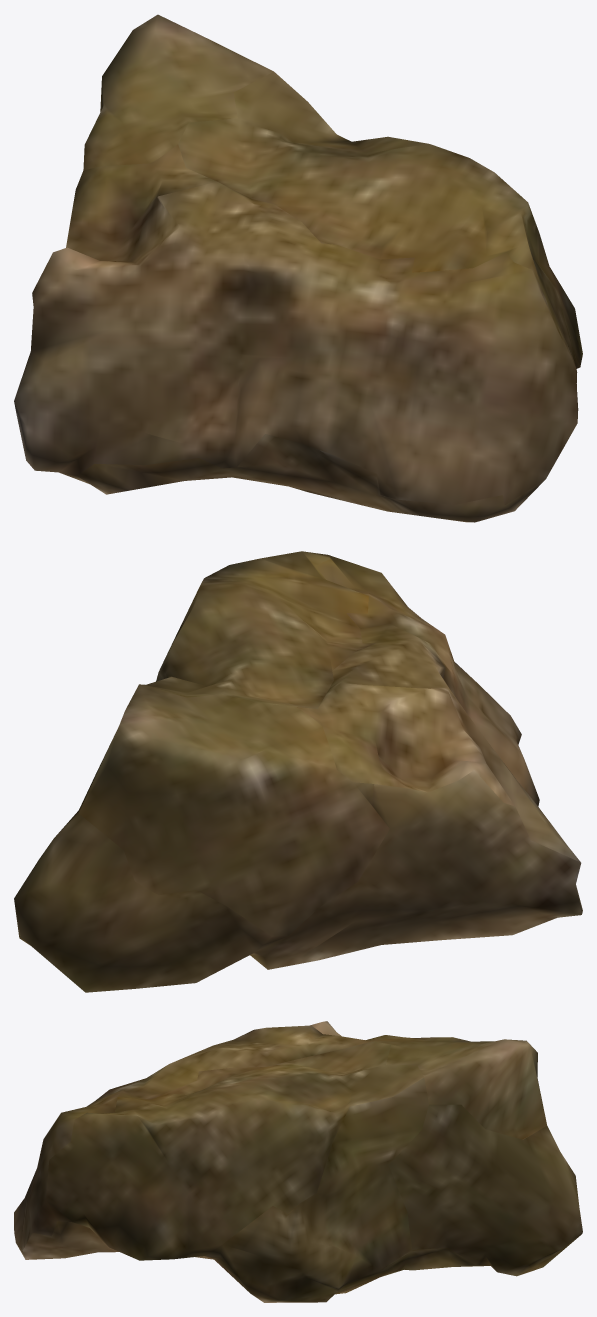
The model's file is rock_moss_set_01_rock06.glb.
The picture shows the model from 3 angles, top to bottom: view 1: azimuth 30°, elevation 25°; view 2: azimuth 150°, elevation 25°; view 3: azimuth 270°, elevation 25°; orthographic projection. The views are drawn at different scales.
Visible parts, largest first — view 1: rock_moss_set_01_rock06; view 2: rock_moss_set_01_rock06; view 3: rock_moss_set_01_rock06.
Boxes of the visible parts, x1=… form: rock_moss_set_01_rock06: x1=14, y1=14, x2=582, y2=522; rock_moss_set_01_rock06: x1=14, y1=551, x2=582, y2=992; rock_moss_set_01_rock06: x1=14, y1=1021, x2=582, y2=1302.
Bounding box in the file's own units: 2.13 × 1.25 × 2.74.
Materials: 1 (1 with a texture image).
